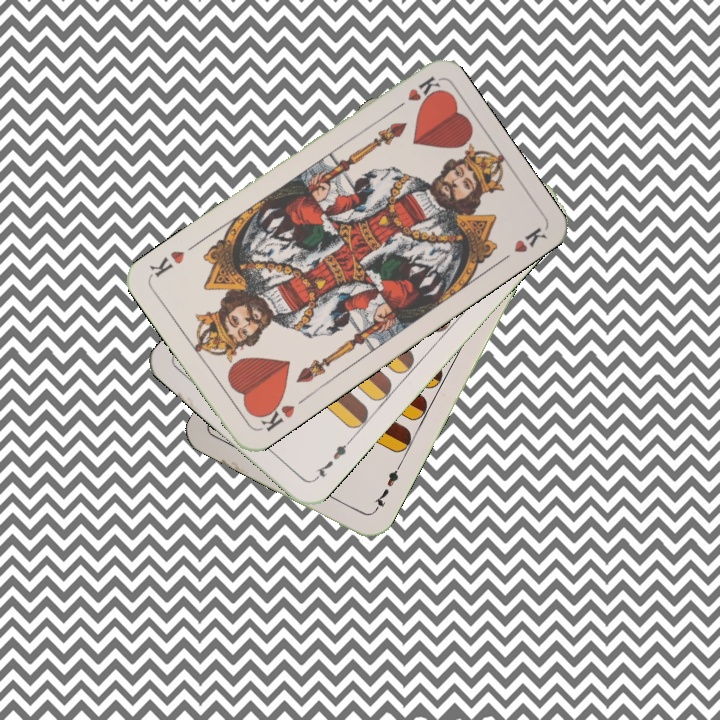E7: (309, 436, 354, 484), (368, 461, 404, 515)
HK: (387, 72, 442, 115), (253, 395, 298, 434)
